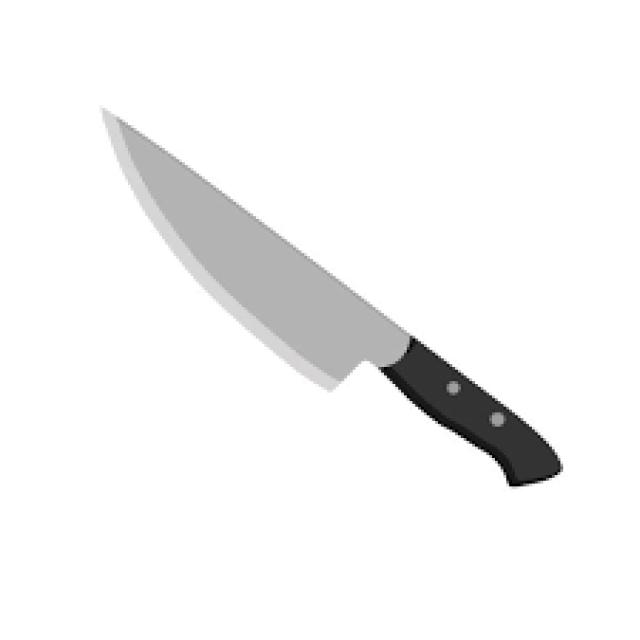Knife: (102, 108, 560, 486)
